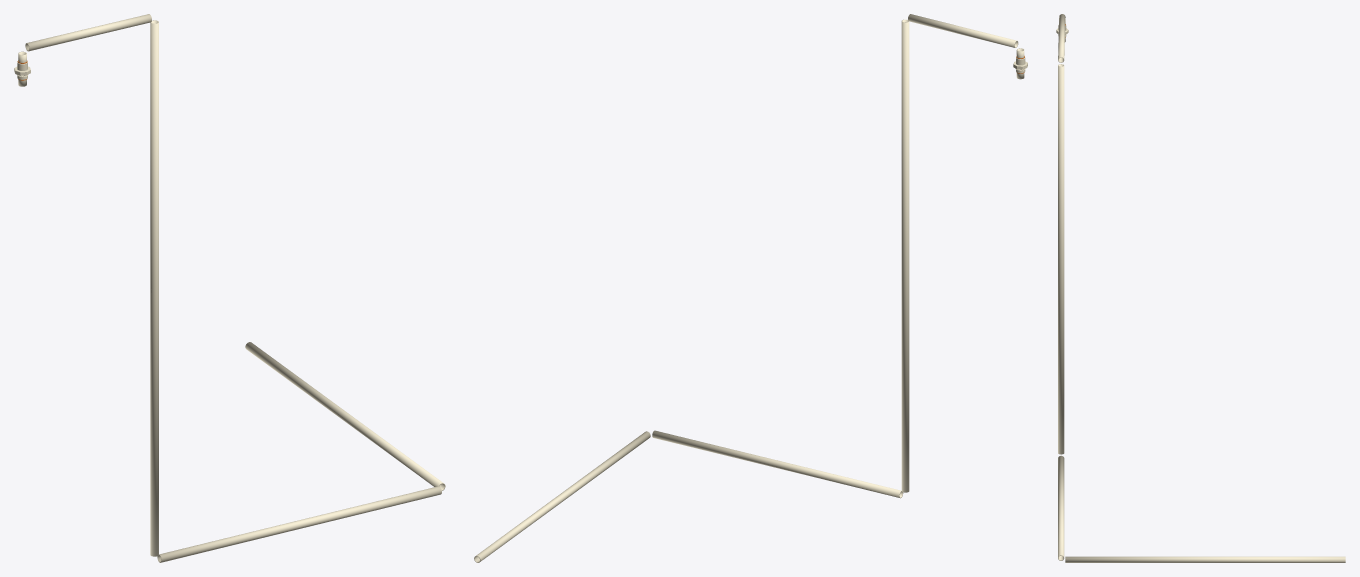
Rendered from pipes_supply__water_heater__fea893b4.glb.
3 renders of one model, left to right at view 1: azimuth 30°, elevation 25°; view 2: azimuth 150°, elevation 25°; view 3: azimuth 270°, elevation 25°, orthographic. The views are drawn at different scales.
Visible parts, largest first — view 1: pipe_supply_cold_riser_flo_s; view 2: pipe_supply_cold_riser_flo_s; view 3: pipe_supply_cold_riser_flo_s.
Part boxes in pixels (x1,y1,x2,y2): pipe_supply_cold_riser_flo_s: (18, 14, 445, 562); pipe_supply_cold_riser_flo_s: (474, 14, 1024, 562); pipe_supply_cold_riser_flo_s: (1058, 14, 1345, 562).
Size of the model in its own units: 1.28 by 1.55 by 1.02.
